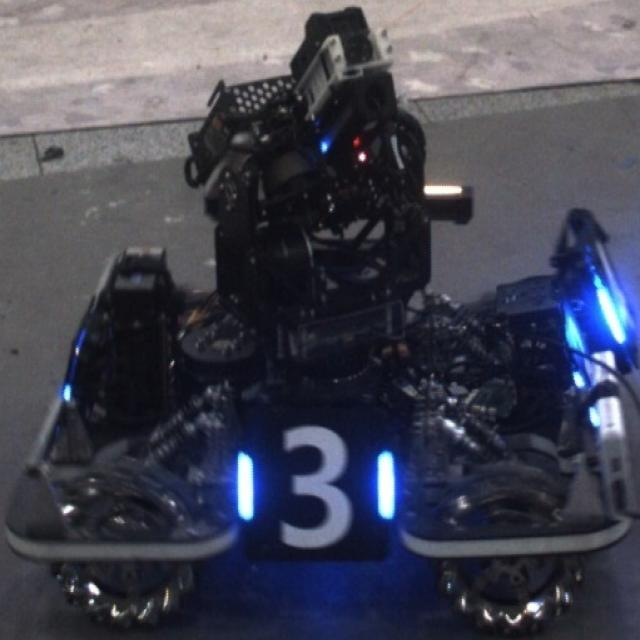B3: (235, 422, 397, 552)
